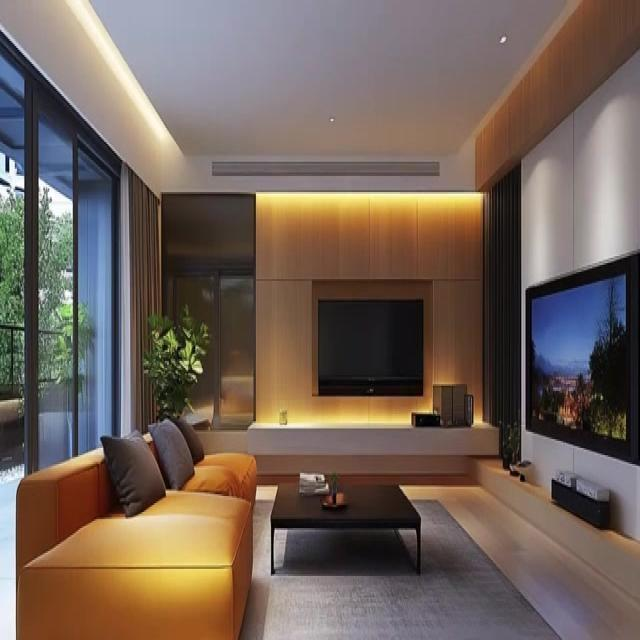obstacle: (14, 414, 257, 638), (270, 480, 421, 576)
